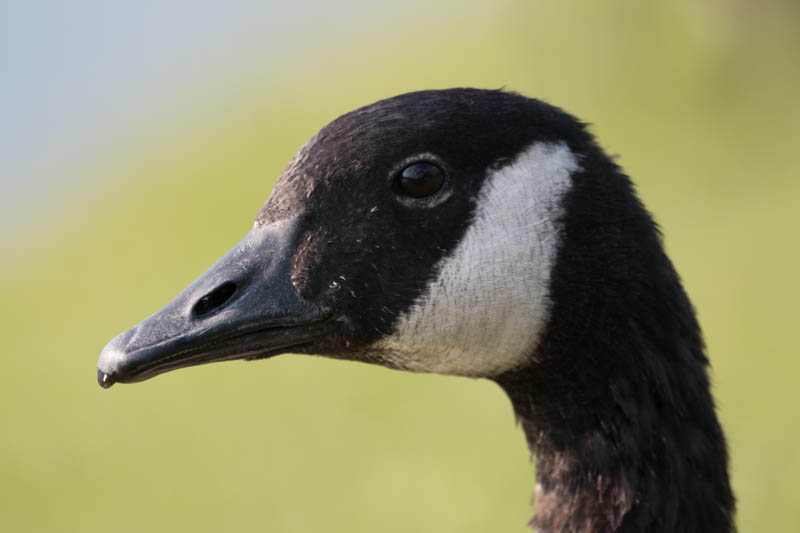goose-head: (93, 87, 647, 388)
